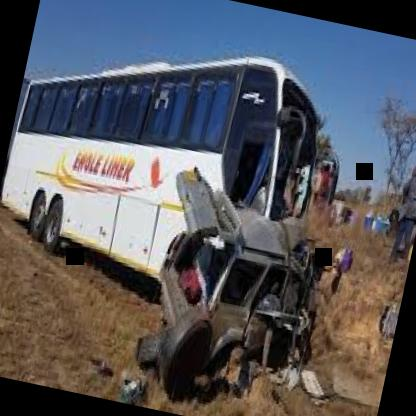accident: (59, 36, 398, 416)
